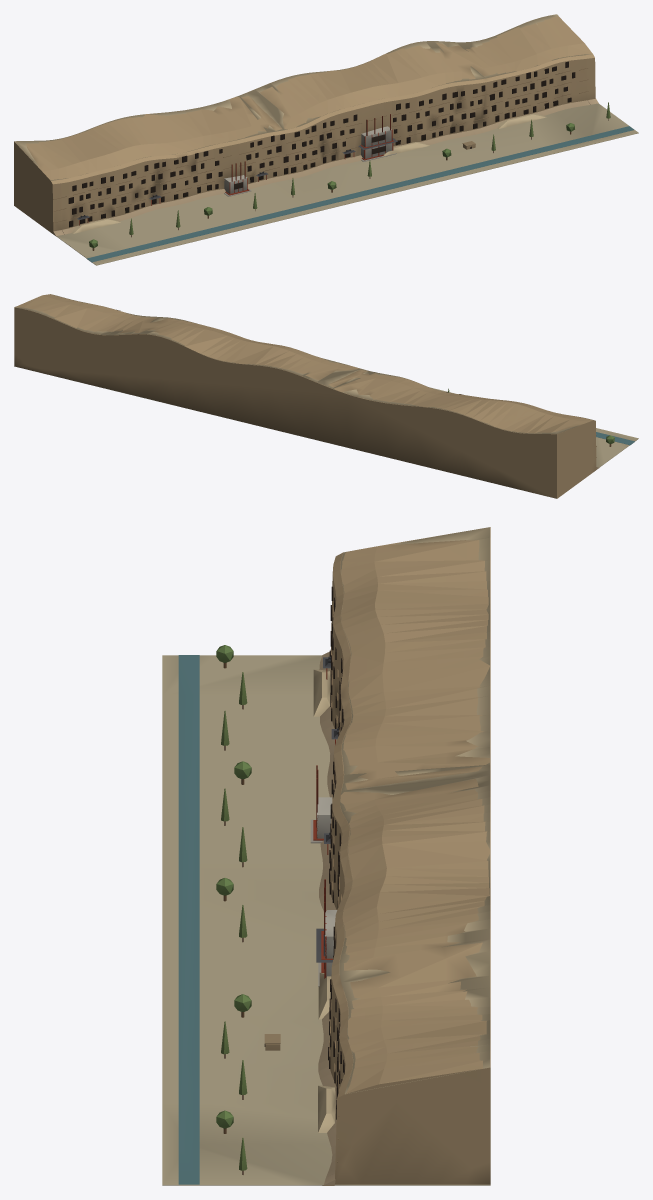
The model's file is mogao-1500.glb.
The picture shows the model from 3 angles, top to bottom: view 1: azimuth 30°, elevation 25°; view 2: azimuth 150°, elevation 25°; view 3: azimuth 270°, elevation 25°; orthographic projection. The views are drawn at different scales.
Parts seen in each view (by area): view 1: p0_valley, p1_houses, p2_trees; view 2: p0_valley; view 3: p0_valley, p1_houses, p2_trees.
Boxes of the visible parts, box(x1,y1,x2,y2) form: p0_valley: box(14, 14, 638, 265); p1_houses: box(68, 61, 575, 233); p2_trees: box(77, 102, 610, 250); p0_valley: box(14, 294, 638, 498); p0_valley: box(162, 527, 490, 1185); p1_houses: box(264, 586, 344, 1132); p2_trees: box(216, 645, 339, 1174).
Bounding box in the file's own units: 420 × 48.49 × 110.
